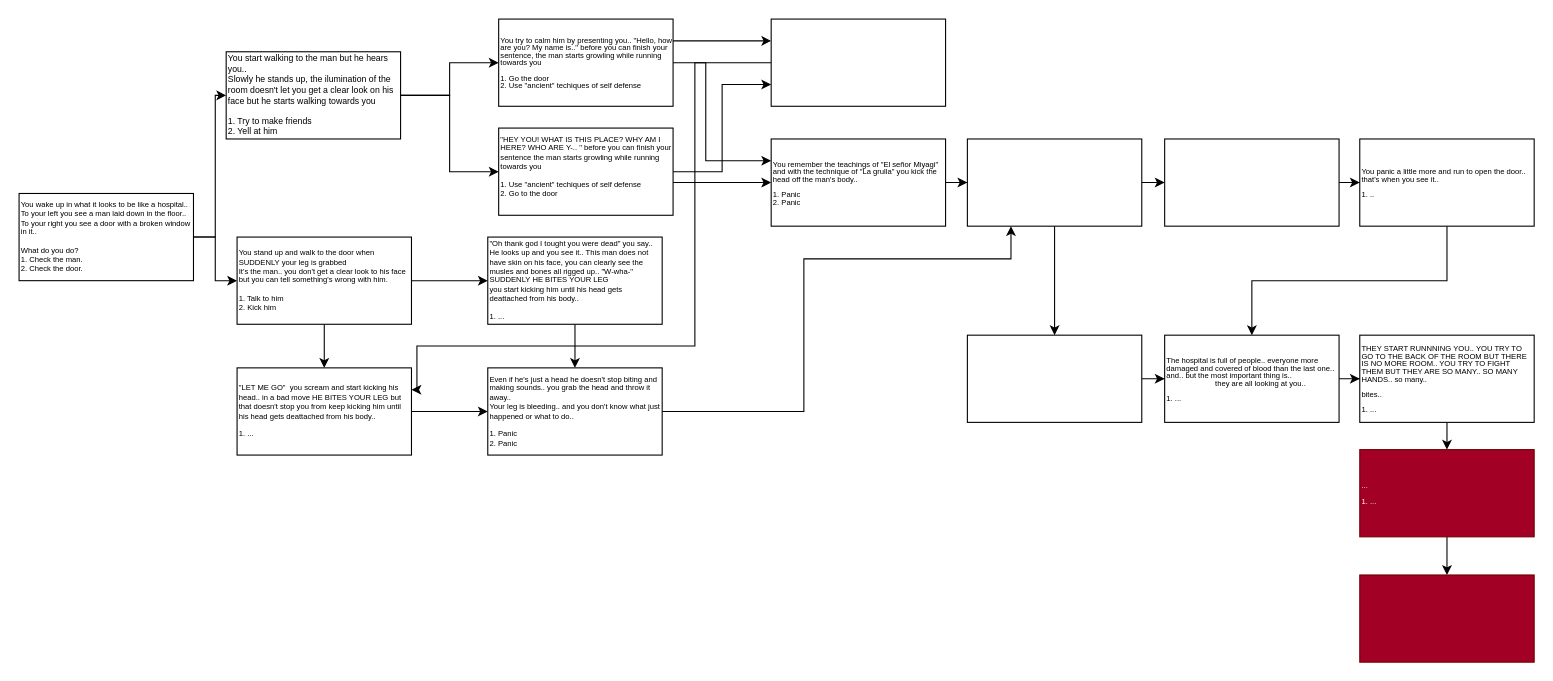
The diagram is 1553 pixels wide and 681 high, and some of its shapes have lost their labels. The shapes that lost their labels are listed below. From the top down, each one's centre as x and y in pixels, then its label:
At point 858,62: "You run to the door but he throws himself at you and grabs your leg 1. ...".
At point 1054,182: "You start panicking 1. Panic less 2. Panic more".
At point 1251,182: "You panic a little more and start screaming 1. Panic less 2. Panic more".
At point 1054,378: "You calm down a little and watch trough the window behind you.. 1. ...".
At point 1446,618: "...you hear steps... 1. rise.".
